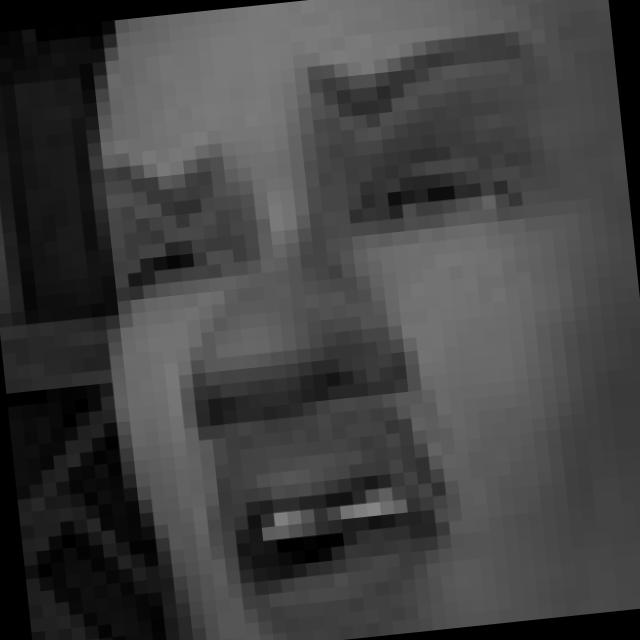disgust: (88, 33, 590, 640)
